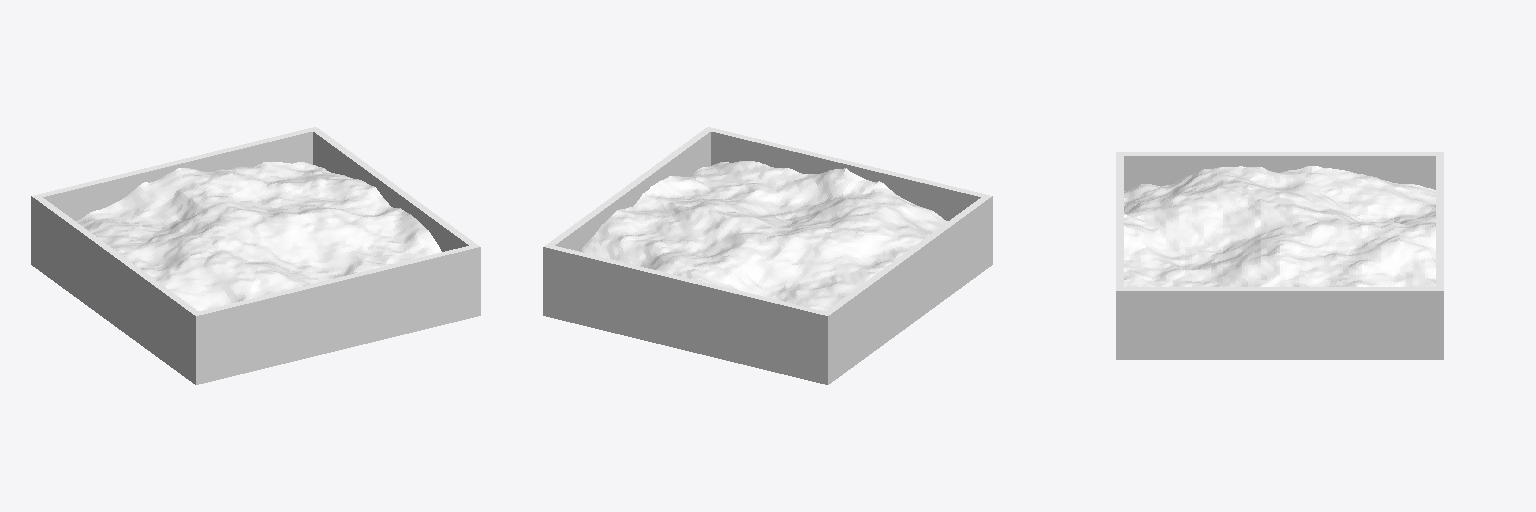
File: pool.obj
3 views of the same model, side by side, from view 1: azimuth 30°, elevation 25°; view 2: azimuth 150°, elevation 25°; view 3: azimuth 270°, elevation 25° (orthographic).
Size of the model in its own units: 1000 by 232 by 1000.